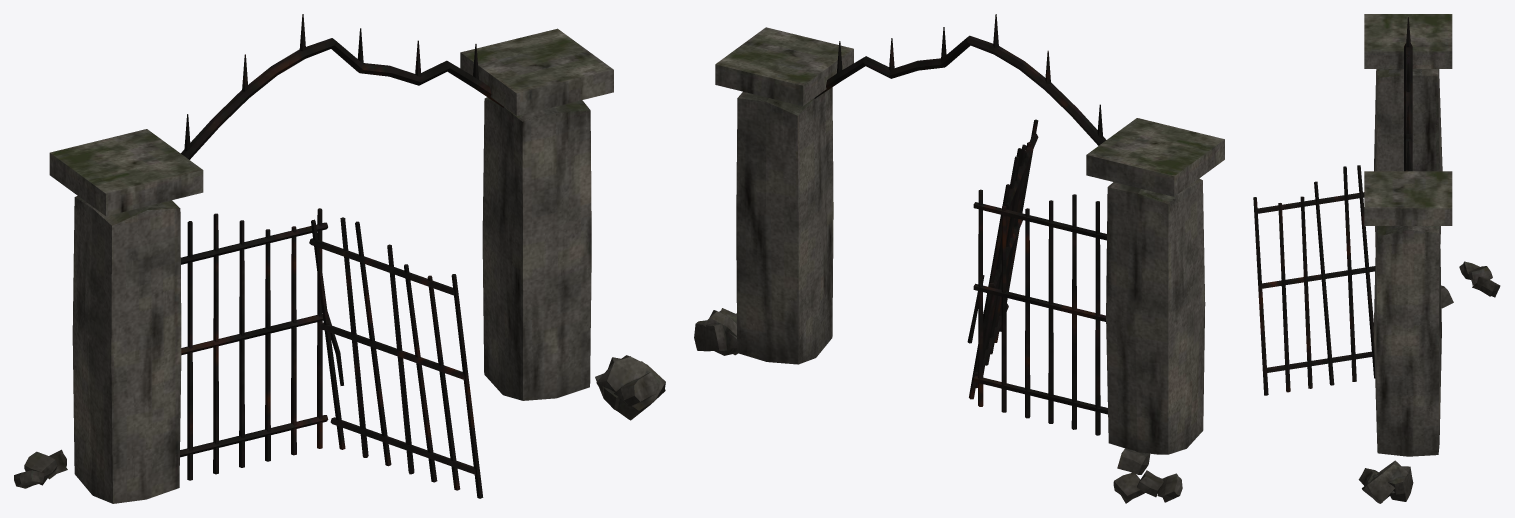
File: cemetery_gate.glb
3 renders of one model, left to right at view 1: azimuth 30°, elevation 25°; view 2: azimuth 150°, elevation 25°; view 3: azimuth 270°, elevation 25°, orthographic. The views are drawn at different scales.
Parts seen in each view (by area): view 1: cemetery_gate; view 2: cemetery_gate; view 3: cemetery_gate.
Part boxes in pixels (left/top/right/bottom): cemetery_gate: left=14, top=14, right=665, bottom=503; cemetery_gate: left=694, top=14, right=1224, bottom=503; cemetery_gate: left=1253, top=14, right=1500, bottom=503.
Bounding box in the file's own units: 5.47 × 4.13 × 2.53.
Materials: 1 (1 with a texture image).
